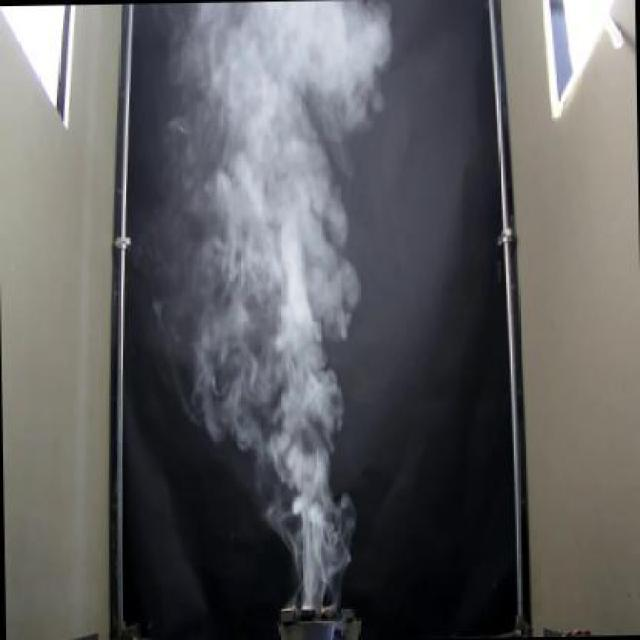fire: (178, 0, 397, 589)
